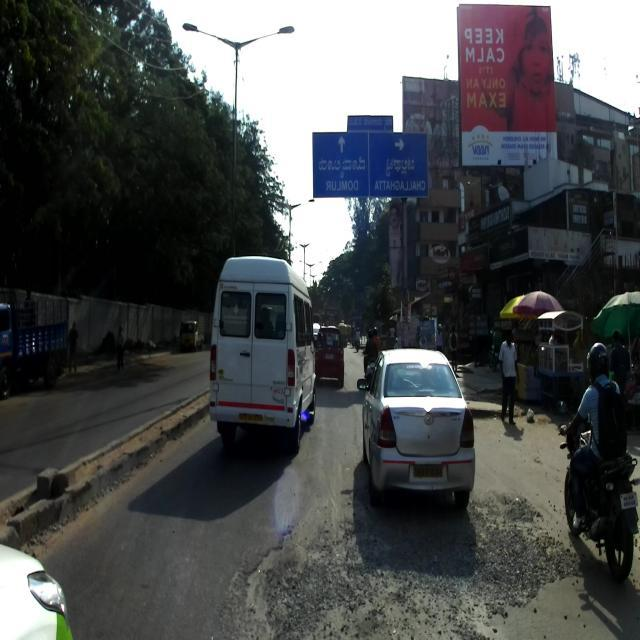Pothole: (230, 517, 375, 640), (382, 522, 502, 640), (504, 498, 554, 596)
